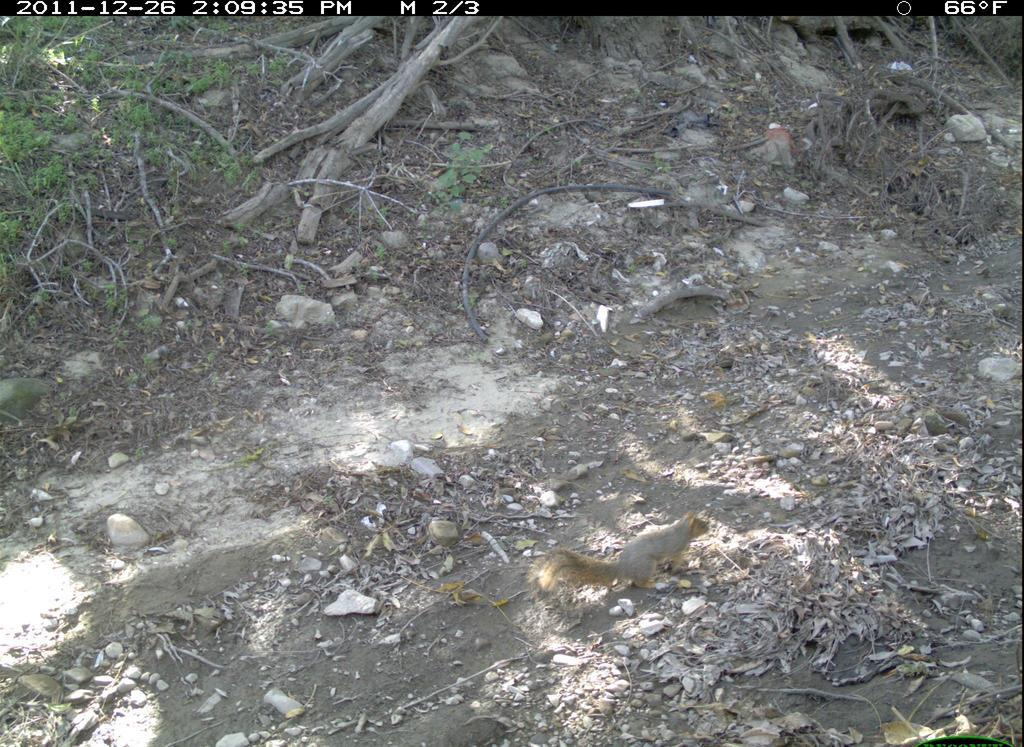squirrel: (534, 497, 713, 611)
